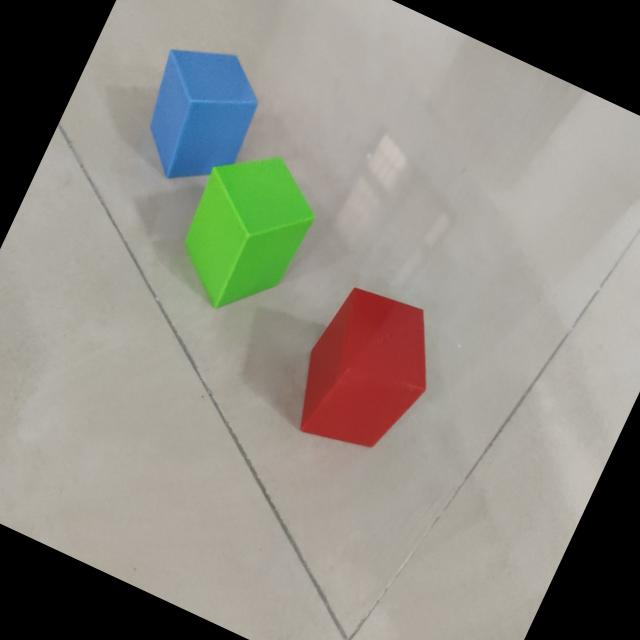blue: (148, 50, 258, 180)
green: (184, 158, 314, 310)
red: (298, 288, 427, 449)
